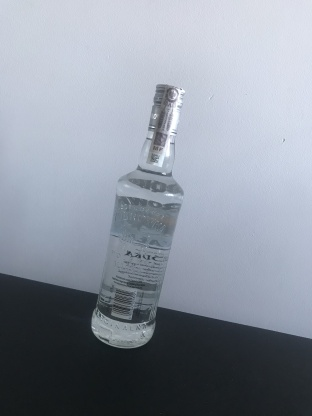nakretka: (145, 80, 187, 139)
